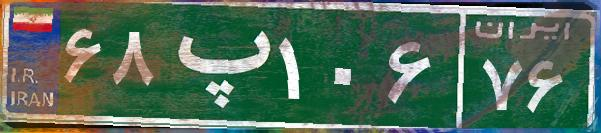0: (330, 28, 385, 110)
1: (273, 28, 330, 110)
6: (385, 28, 445, 110), (57, 26, 110, 107), (525, 38, 570, 115)
7: (475, 38, 525, 113)
8: (110, 28, 158, 105)
پ: (158, 15, 273, 115)
